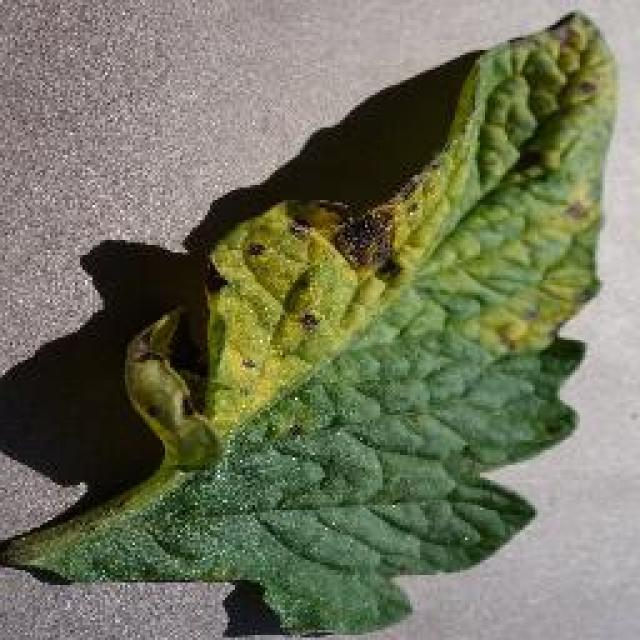Tomato___Early_blight: (0, 4, 625, 636)
